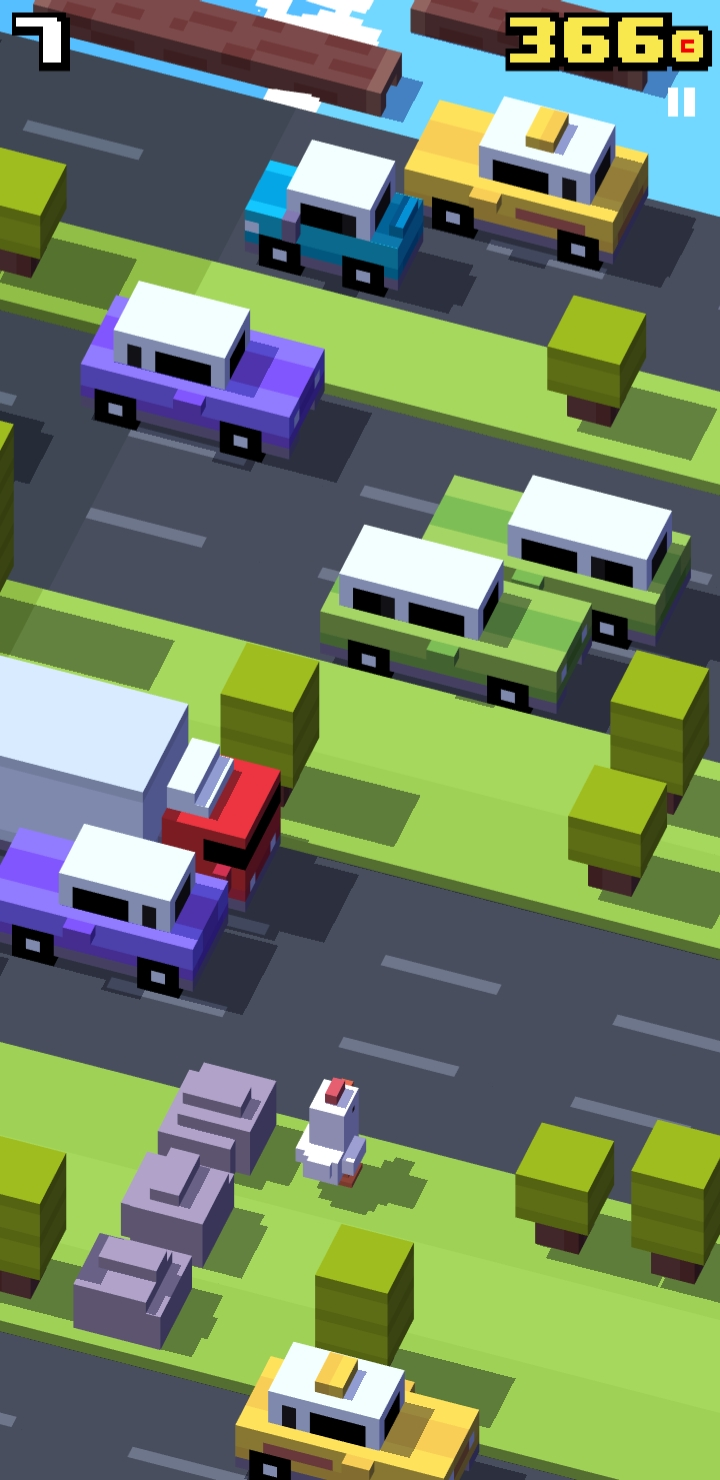car: (323, 512, 594, 710), (81, 267, 338, 470), (423, 458, 694, 647), (410, 96, 649, 276), (5, 818, 230, 999), (236, 1338, 485, 1480), (247, 138, 427, 296)
duck: (296, 1078, 369, 1187)
log: (83, 1, 394, 107), (409, 1, 679, 99)
rock: (158, 1049, 279, 1176), (70, 1230, 198, 1349), (123, 1145, 234, 1261)
tree: (219, 634, 327, 821), (607, 649, 714, 825), (314, 1225, 418, 1398), (514, 1118, 616, 1269), (632, 1118, 720, 1283), (572, 763, 670, 903), (549, 292, 647, 429), (1, 1129, 67, 1301), (1, 136, 63, 285), (1, 414, 16, 630)
truck: (3, 649, 276, 918)
